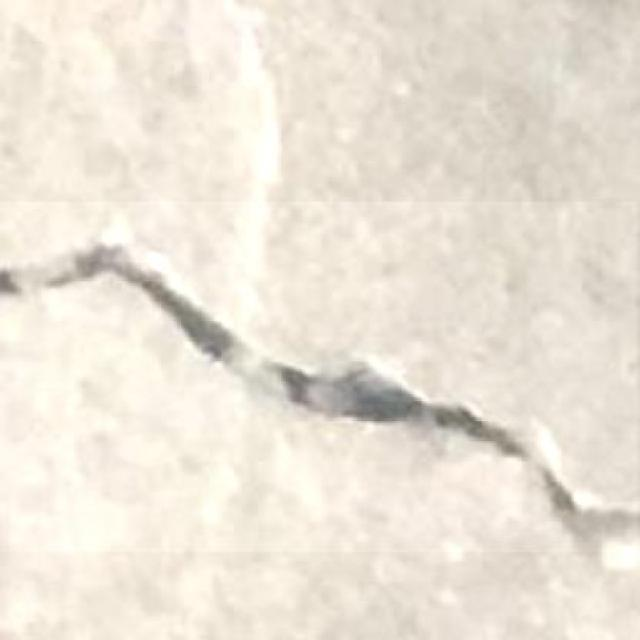Crack: (0, 219, 639, 560)
